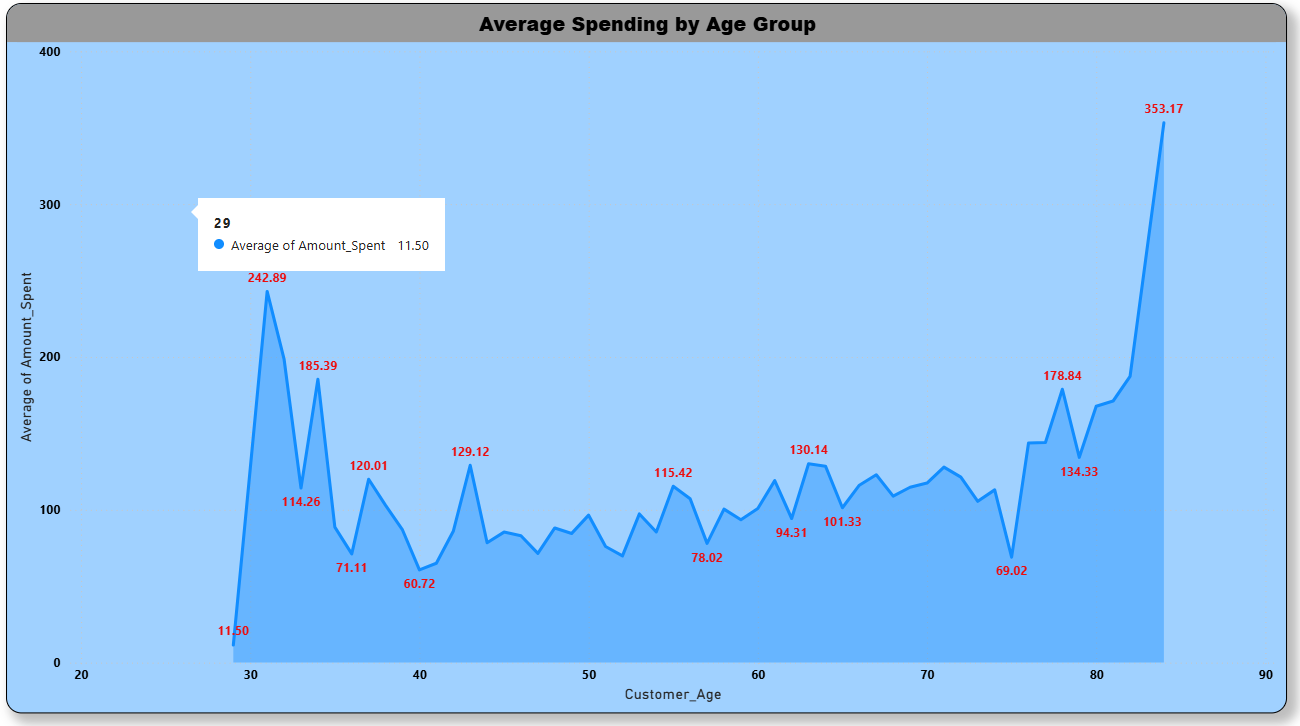

The dashboard page shown, as its layout file describes it:
{"tool":"powerbi","page":{"name":"High Spender Age Profile","canvas":[1280,720],"ordinal":2},"visuals":[{"type":"areaChart","title":"Average Spending by Age Group","fields":{"Y":["Avg(marketing_data.Amount_Spent)"],"Category":["marketing_data.Customer_Age"]},"box":[10.7,9.7,1246,690.6],"z":0}]}

Visuals, with their boxes in screenshot pixels (x1, y1, x2, y2), scaled from the page's 1280x720 canvas onto the 1300x726 screenshot:
"Average Spending by Age Group" areaChart: rect(11, 10, 1276, 706)
